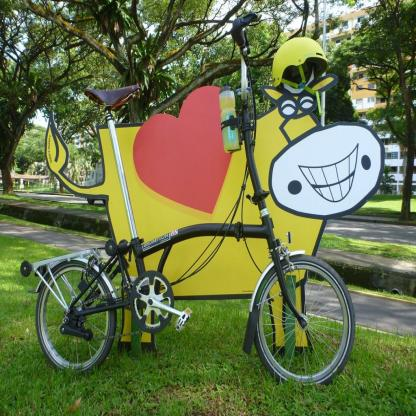Helmet: (272, 34, 328, 117)
